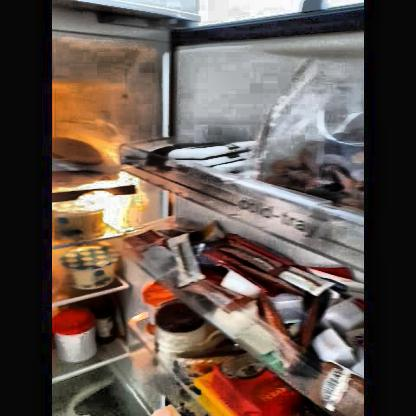butter: (190, 377, 250, 415)
chocolate: (134, 141, 252, 170)
dates: (268, 130, 365, 201)
salami: (51, 136, 108, 173)
yoghurt: (62, 247, 120, 288), (56, 201, 106, 237)
